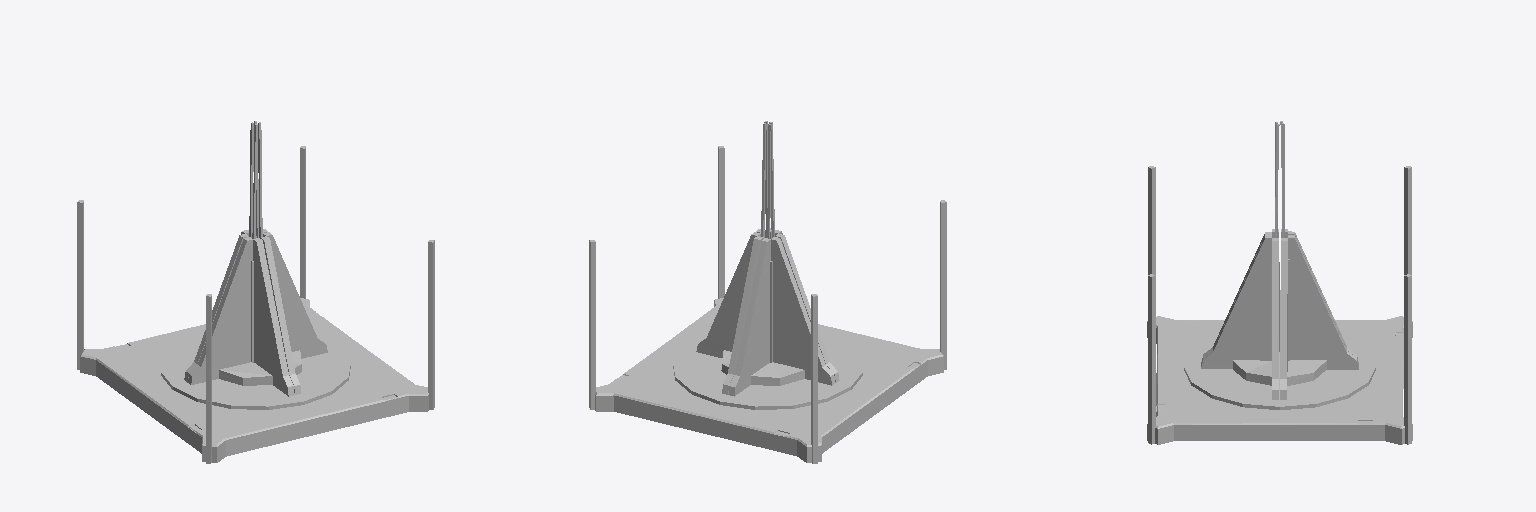
The model's file is tower2.obj.
3 renders of one model, left to right at view 1: azimuth 30°, elevation 25°; view 2: azimuth 150°, elevation 25°; view 3: azimuth 270°, elevation 25°, orthographic.
Visible parts, largest first — view 1: Default; view 2: Default; view 3: Default.
Part boxes in pixels (x1,y1,x2,y2): Default: (77,121,434,463); Default: (589,121,946,463); Default: (1147,121,1412,444).
Bounding box in the file's own units: 0.7755 × 0.8557 × 0.7755.